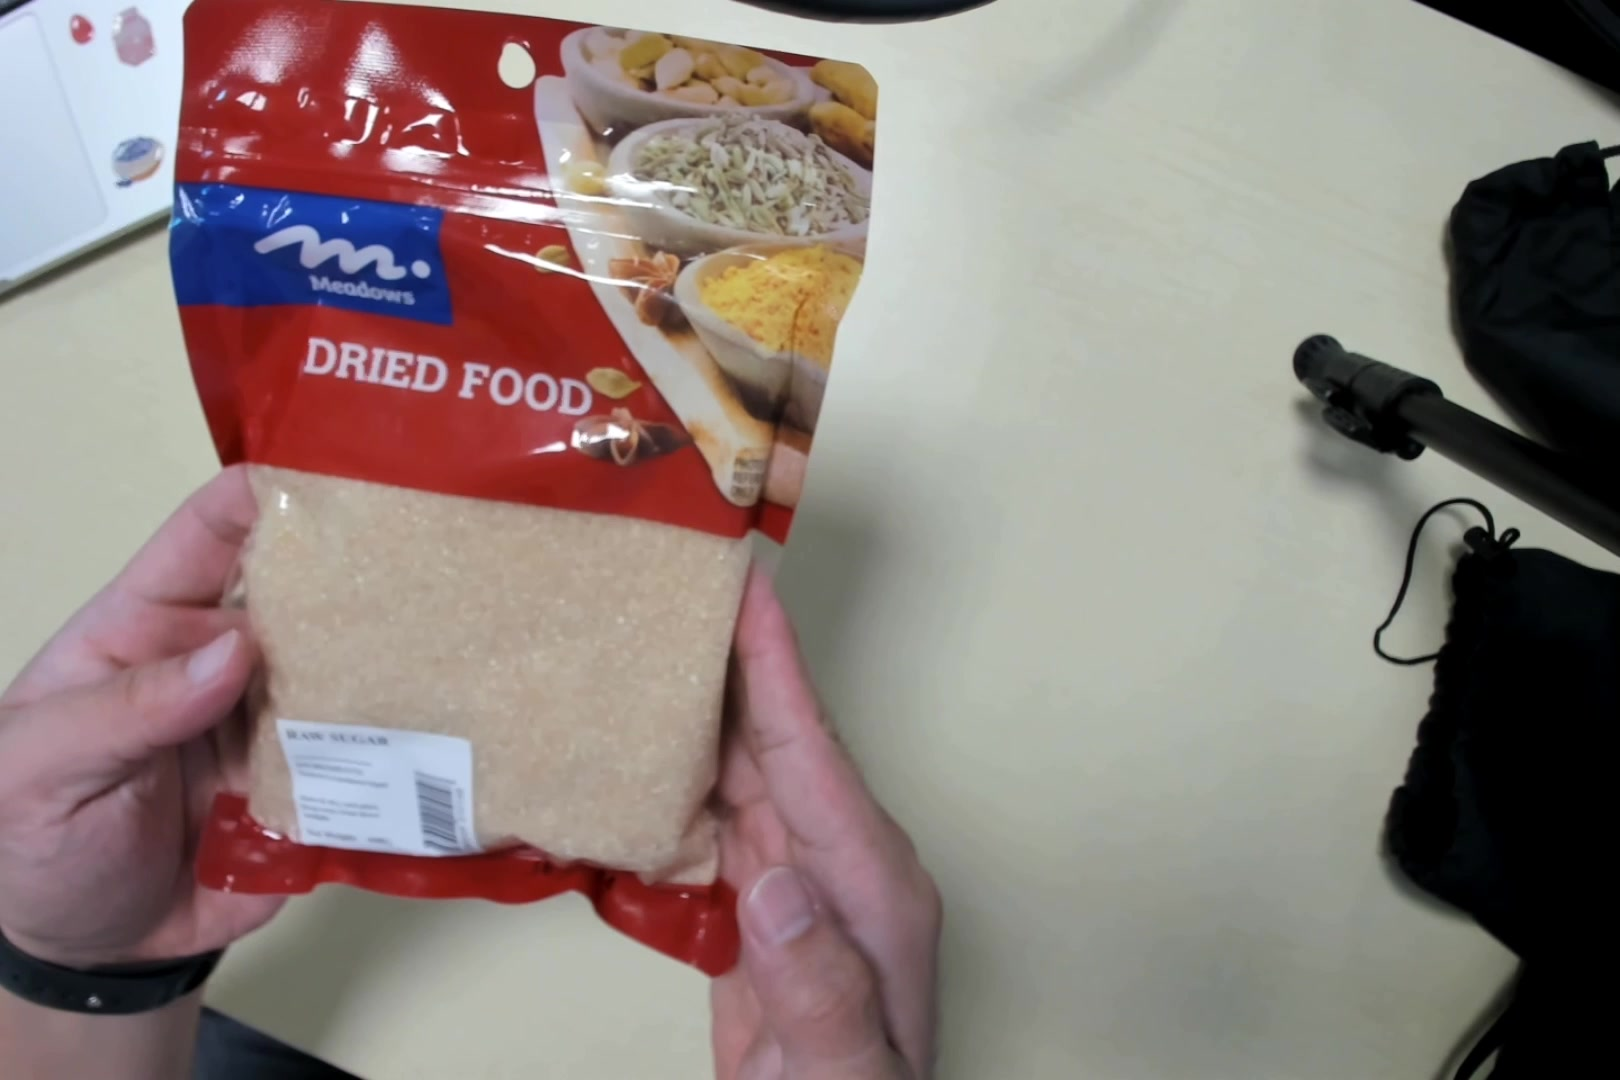Suger_200-299g_Halal_NonHealthy: (172, 10, 830, 959)
